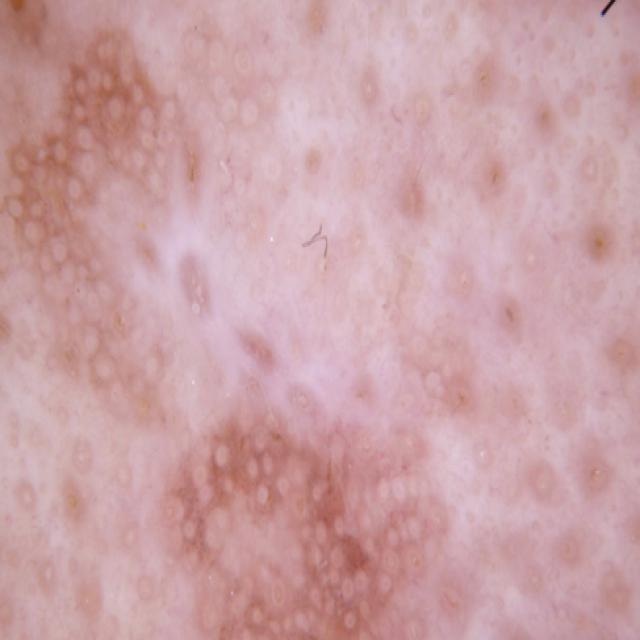Keratosis: (420, 36, 640, 355), (2, 30, 190, 394), (148, 404, 399, 640), (489, 431, 640, 640)
